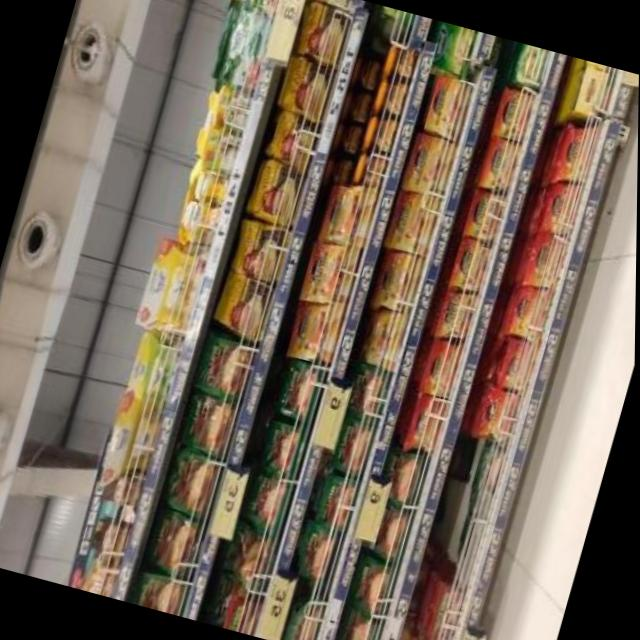Coffee: (284, 296, 347, 366), (299, 240, 361, 308), (317, 180, 379, 248), (384, 190, 440, 256), (421, 72, 474, 140), (403, 132, 456, 198), (371, 247, 425, 311), (355, 306, 409, 370), (555, 121, 598, 181), (525, 237, 567, 289), (478, 135, 520, 187), (493, 86, 536, 136), (542, 184, 582, 237), (421, 341, 461, 393), (450, 240, 490, 290), (511, 290, 551, 340), (497, 341, 536, 392), (407, 398, 446, 449), (437, 291, 476, 341), (475, 389, 513, 440), (464, 190, 504, 238), (363, 114, 399, 154), (373, 79, 408, 117), (383, 42, 418, 78), (353, 152, 387, 188)
